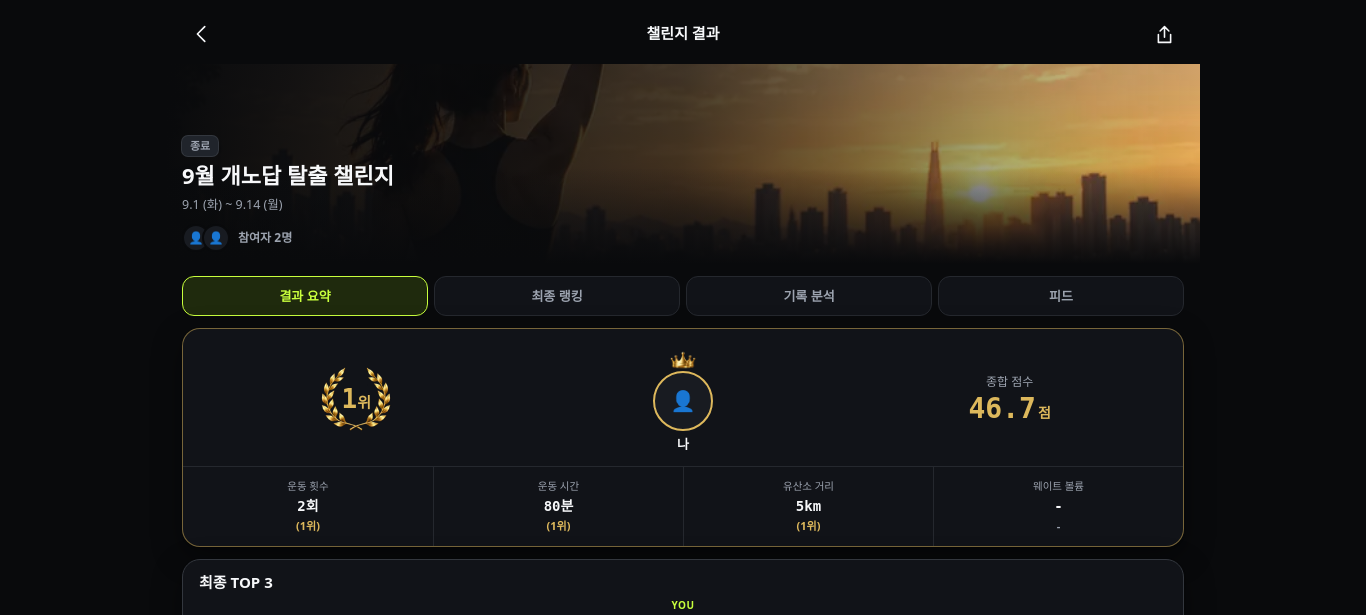
Test: 종료 화면 — 최종 시안 (히어로 + 4탭) › 기록 분석 — 레벨·링·일별 활동·주요 기록·성장·보상
Click the tab "기록 분석" at (809, 296), box [686, 276, 932, 316]
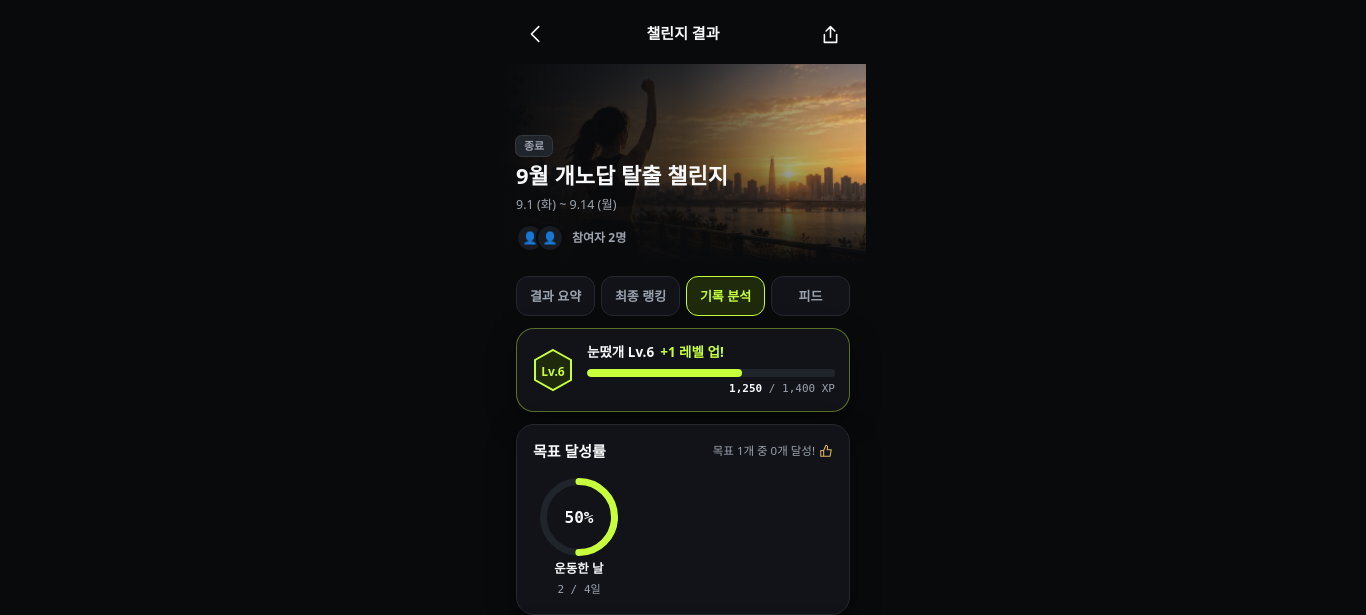
Now the element with test id "level-card" is shown, box [516, 328, 850, 412]
Now the number of elements with test id "goal-ring" is 1, box [540, 478, 618, 596]
